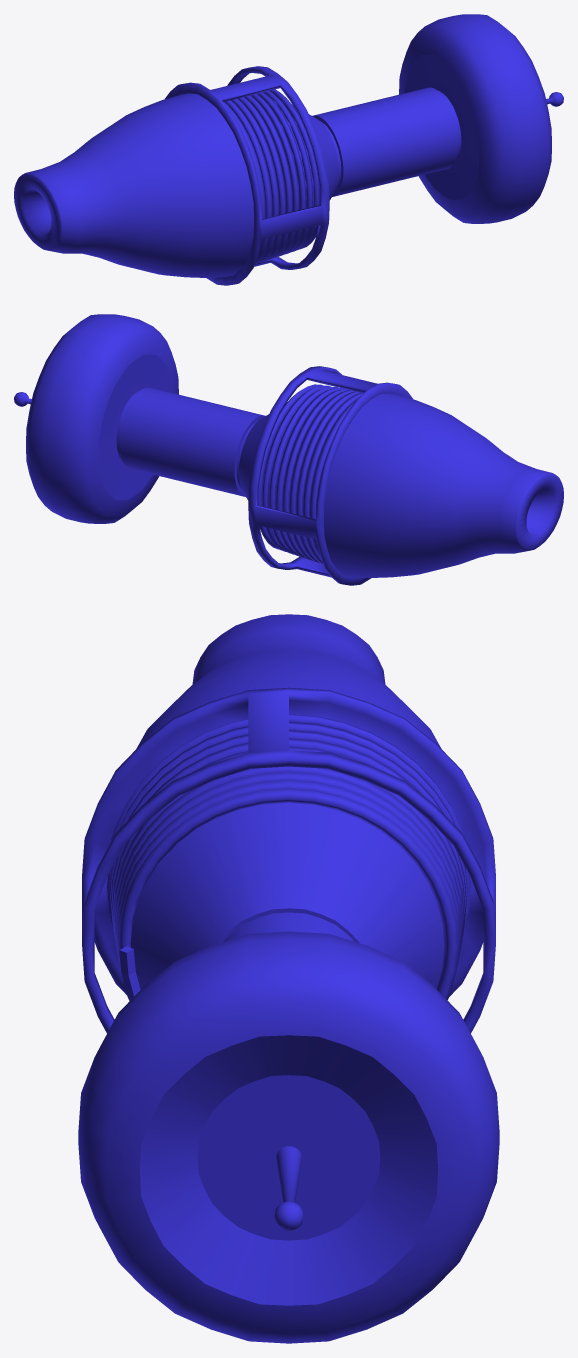
Rendered from ElectricHand.fbx.
3 renders of one model, top to bottom at view 1: azimuth 30°, elevation 25°; view 2: azimuth 150°, elevation 25°; view 3: azimuth 270°, elevation 25°, orthographic. The views are drawn at different scales.
Parts seen in each view (by area): view 1: HandElectric; view 2: HandElectric; view 3: HandElectric.
Part boxes in pixels (x1,y1,x2,y2): HandElectric: (14, 14, 563, 285); HandElectric: (14, 314, 563, 585); HandElectric: (78, 614, 499, 1343).
Size of the model in its own units: 36.05 by 12.5 by 12.5.
